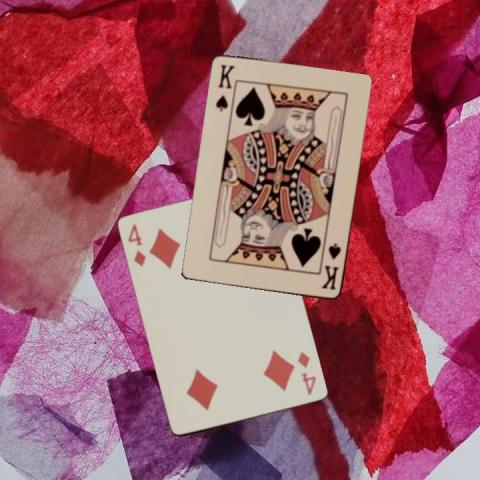4d: (295, 348, 318, 396), (125, 221, 148, 269)
Ks: (318, 240, 343, 291), (213, 62, 236, 113)
